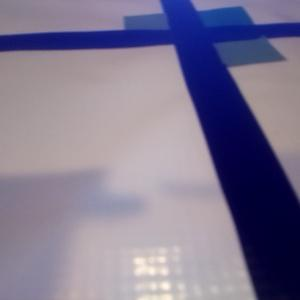bottom_right: (180, 29, 286, 65)
top_left: (124, 13, 198, 44)
top_right: (171, 7, 254, 40)
